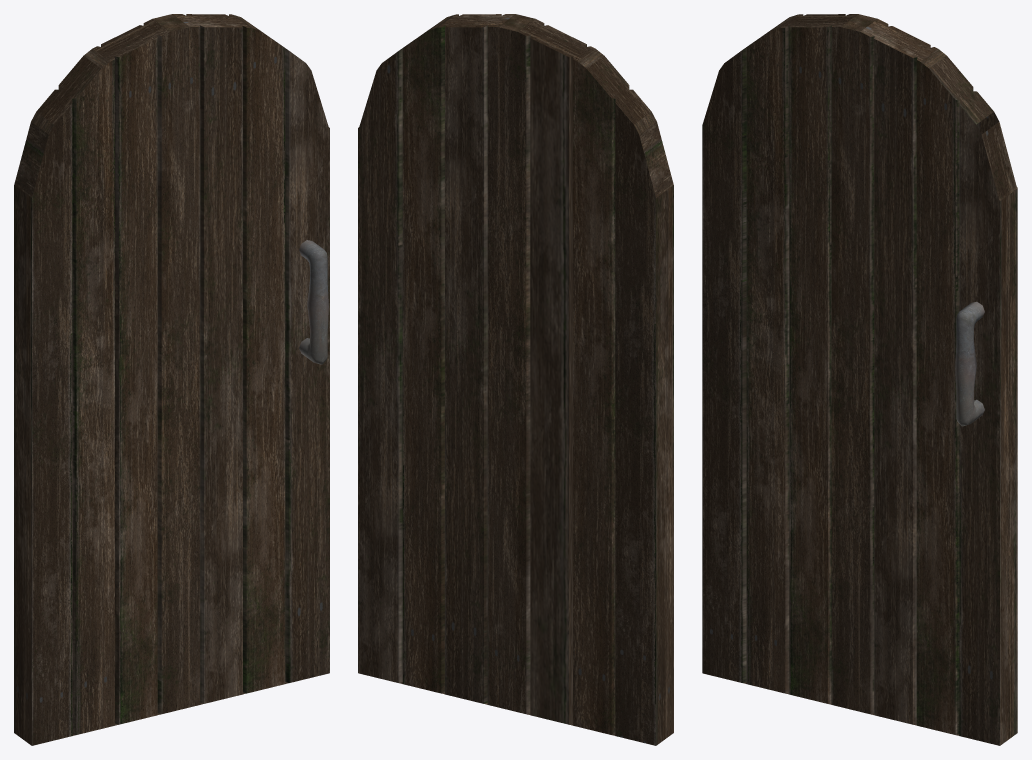
Rendered from RoundedDoor.fbx.
3 views of the same model, side by side, from view 1: azimuth 30°, elevation 25°; view 2: azimuth 150°, elevation 25°; view 3: azimuth 330°, elevation 25° (orthographic).
Parts seen in each view (by area): view 1: Rounded Door; view 2: Rounded Door; view 3: Rounded Door.
Part boxes in pixels (x1=…): Rounded Door: x1=14, y1=14, x2=329, y2=745; Rounded Door: x1=358, y1=14, x2=673, y2=745; Rounded Door: x1=702, y1=14, x2=1017, y2=745.
Size of the model in its own units: 89.49 by 195 by 18.28.
